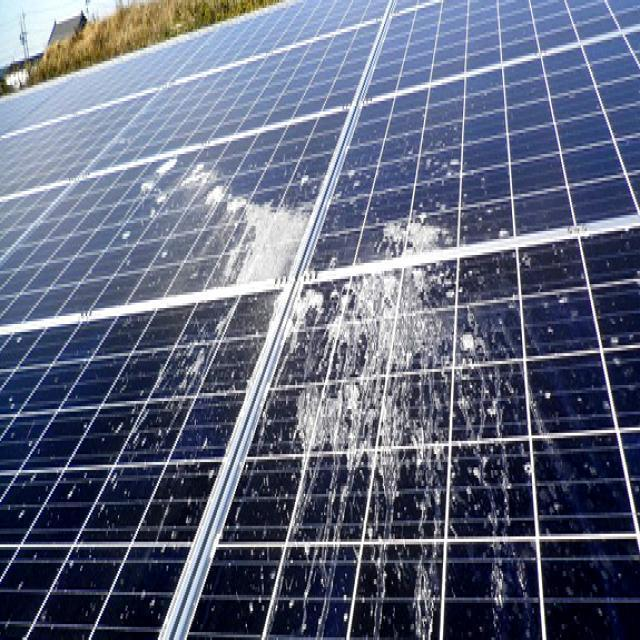soiled: (21, 149, 640, 640)
